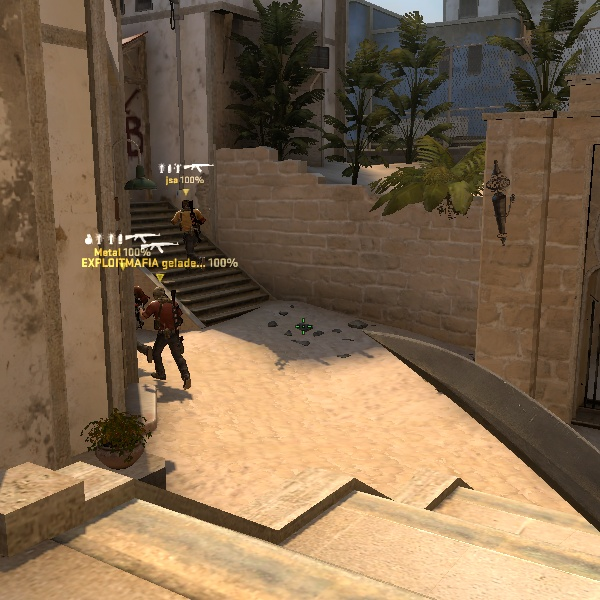t_body: (140, 286, 199, 396), (165, 192, 218, 270), (132, 281, 151, 368)
t_head: (149, 284, 177, 308), (175, 196, 199, 219)
